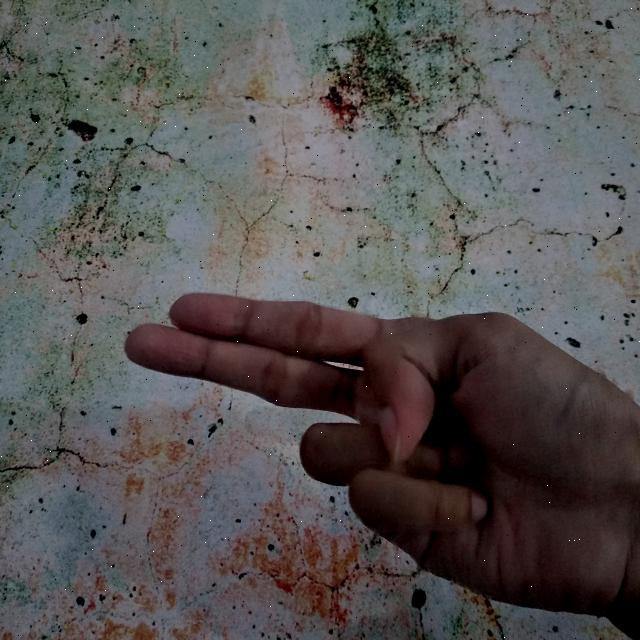H: (119, 285, 640, 640), (120, 287, 640, 639)
